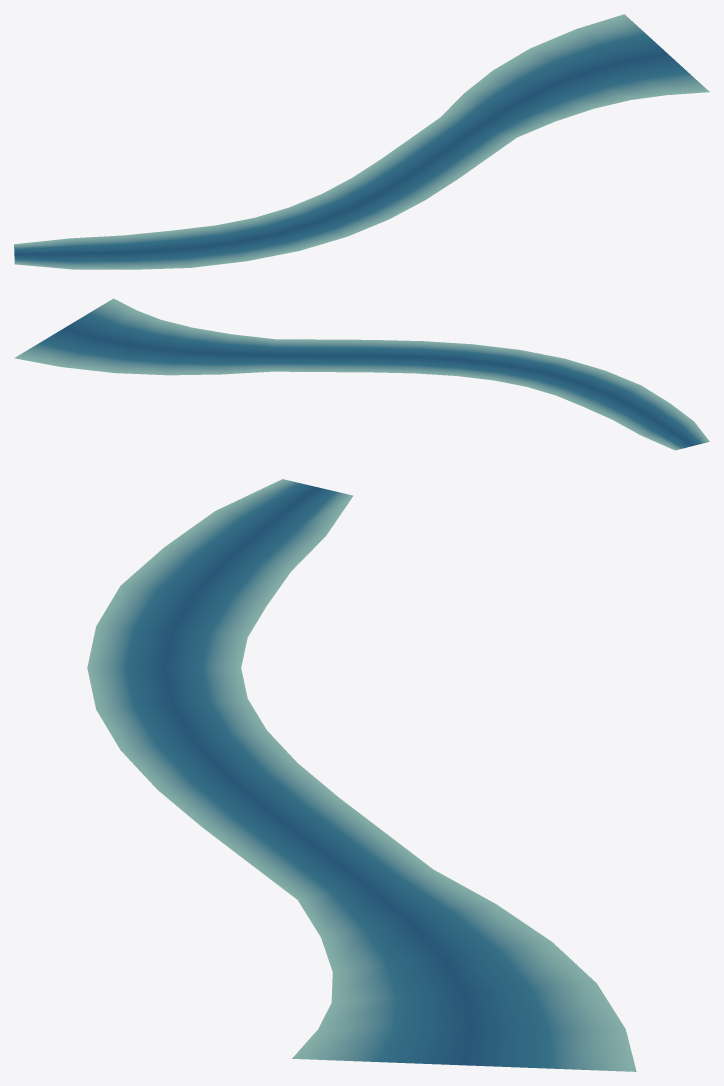
Rendered from river.glb.
3 views of the same model, one above another, from view 1: azimuth 30°, elevation 25°; view 2: azimuth 150°, elevation 25°; view 3: azimuth 270°, elevation 25° (orthographic). The views are drawn at different scales.
Parts seen in each view (by area): view 1: m; view 2: m; view 3: m.
Boxes of the visible parts, box(x1,y1,x2,y2) form: m: box(14, 14, 709, 269); m: box(14, 298, 709, 450); m: box(87, 479, 636, 1071).
Size of the model in its own units: 32.82 by 0 by 12.85.
